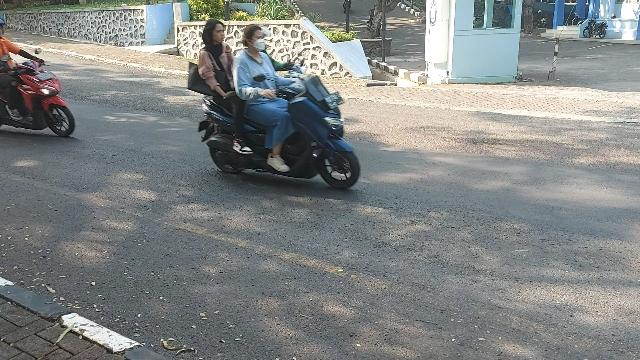motor: (200, 61, 361, 190)
non-helm: (244, 26, 267, 53), (207, 21, 226, 44)
